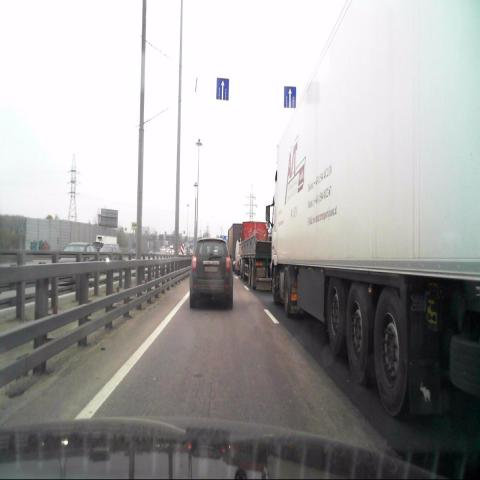5_15_2: (216, 77, 230, 100)
